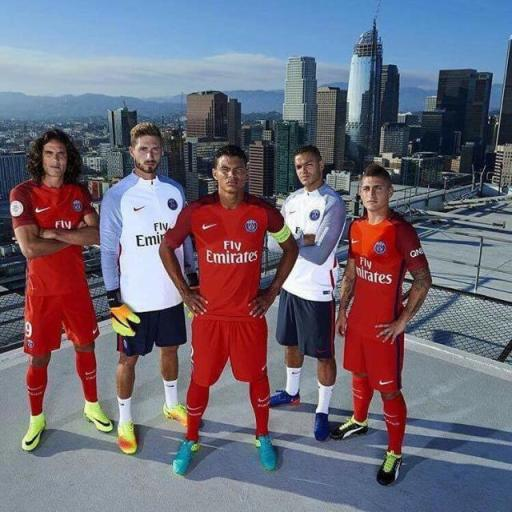Emirates: (204, 239, 260, 266), (354, 256, 394, 286), (134, 221, 177, 248)
